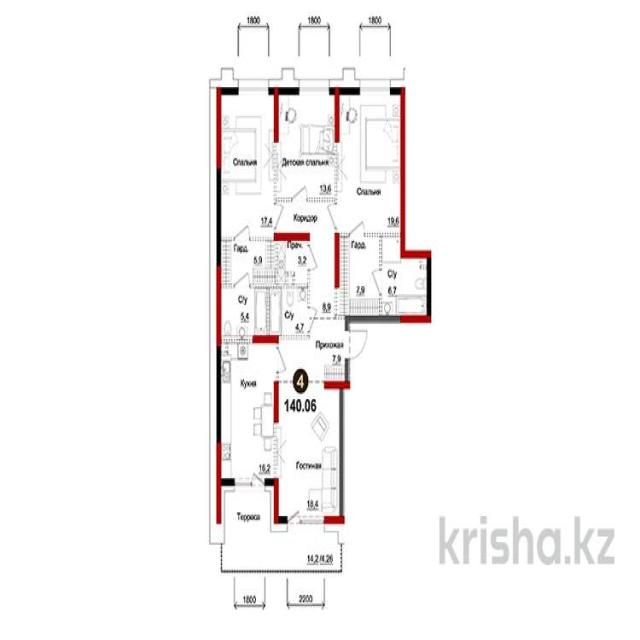balcony: (222, 487, 343, 572)
bathroom: (382, 238, 427, 314), (221, 289, 269, 335), (270, 288, 308, 334)
hallway: (276, 202, 346, 382)
kitchen: (222, 342, 274, 479)
living_room: (276, 382, 342, 517), (339, 95, 400, 231), (220, 93, 275, 238), (278, 94, 335, 196)
other: (341, 235, 383, 312), (222, 238, 275, 287), (275, 240, 309, 287)
